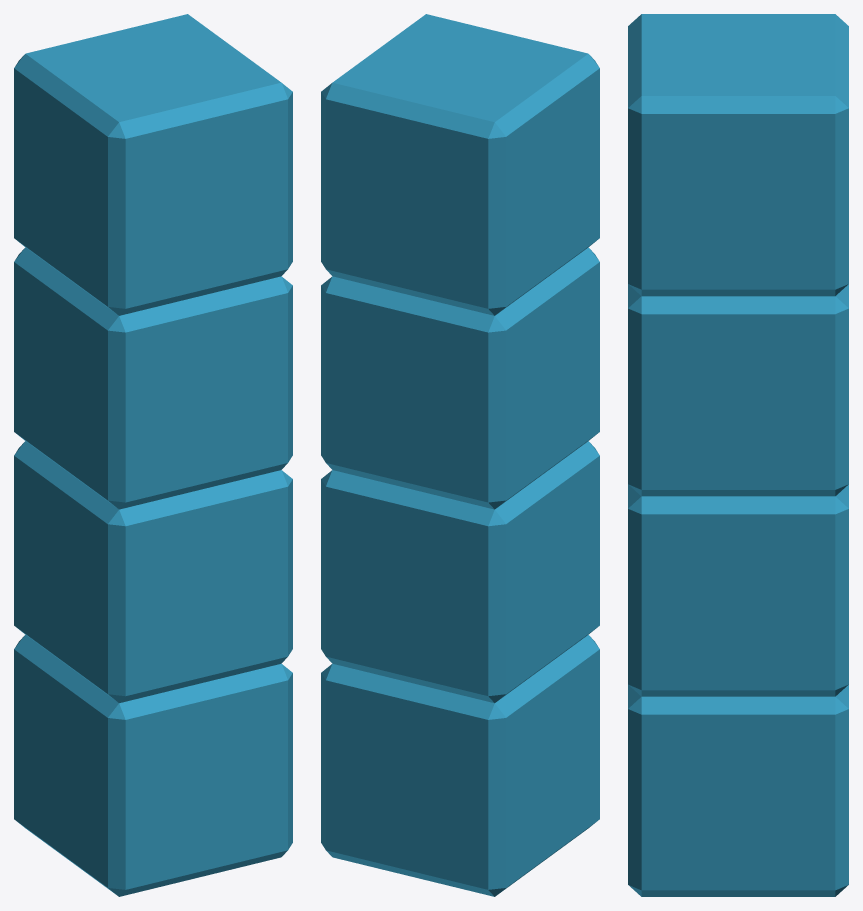
The model's file is TetriminoI.fbx.
The picture shows the model from 3 angles, left to right: view 1: azimuth 30°, elevation 25°; view 2: azimuth 150°, elevation 25°; view 3: azimuth 270°, elevation 25°; orthographic projection. The views are drawn at different scales.
Parts seen in each view (by area): view 1: Cube.003, Cube.000, Cube.002, Cube.001; view 2: Cube.003, Cube.000, Cube.002, Cube.001; view 3: Cube.003, Cube.002, Cube.000, Cube.001.
Boxes of the visible parts, x1=… form: Cube.003: x1=14, y1=14, x2=292, y2=315; Cube.000: x1=14, y1=635, x2=292, y2=896; Cube.002: x1=14, y1=247, x2=292, y2=509; Cube.001: x1=14, y1=441, x2=292, y2=703; Cube.003: x1=321, y1=14, x2=599, y2=315; Cube.000: x1=321, y1=635, x2=599, y2=896; Cube.002: x1=321, y1=247, x2=599, y2=509; Cube.001: x1=321, y1=441, x2=599, y2=703; Cube.003: x1=628, y1=14, x2=848, y2=296; Cube.002: x1=628, y1=284, x2=848, y2=496; Cube.000: x1=628, y1=685, x2=848, y2=896; Cube.001: x1=628, y1=484, x2=848, y2=696.
Bounding box in the file's own units: 200 × 800 × 200.
